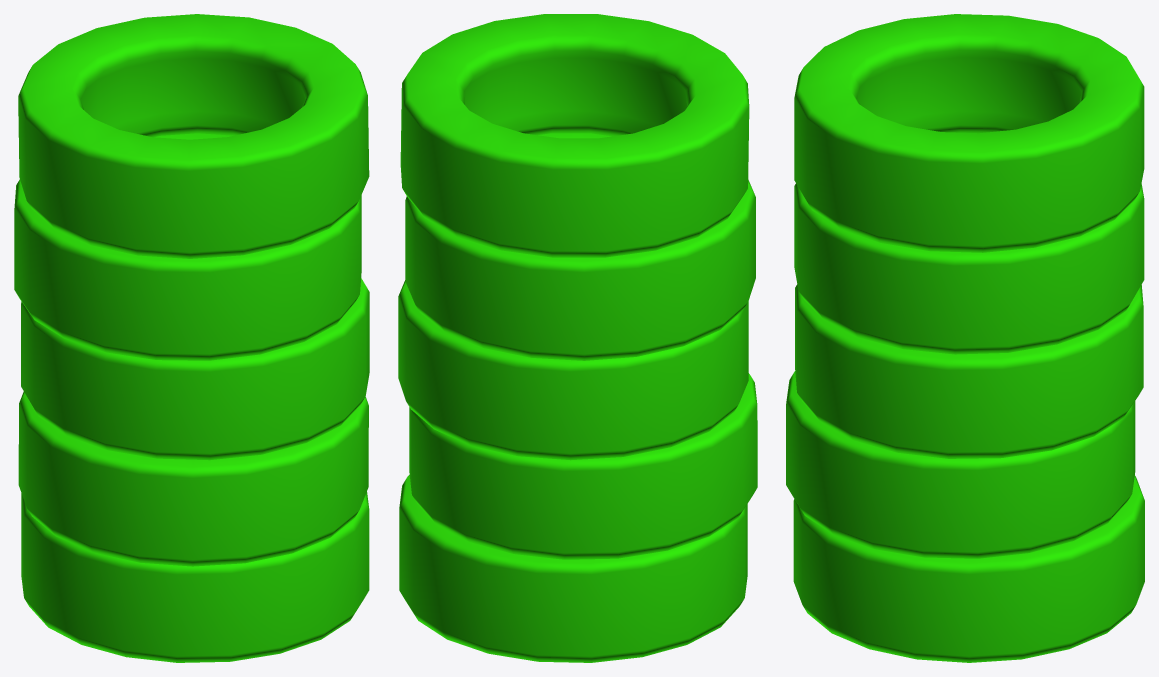
Rendered from Tire_Pile_02_Lod0.fbx.
3 views of the same model, side by side, from view 1: azimuth 30°, elevation 25°; view 2: azimuth 150°, elevation 25°; view 3: azimuth 270°, elevation 25° (orthographic).
Visible parts, largest first — view 1: Tire_Pile_02_Lod0; view 2: Tire_Pile_02_Lod0; view 3: Tire_Pile_02_Lod0.
Part boxes in pixels (box(x1,y1,x2,y2)): Tire_Pile_02_Lod0: box(14, 14, 369, 662); Tire_Pile_02_Lod0: box(398, 14, 757, 662); Tire_Pile_02_Lod0: box(786, 14, 1144, 662).
Size of the model in its own units: 79.12 by 124 by 79.11.
